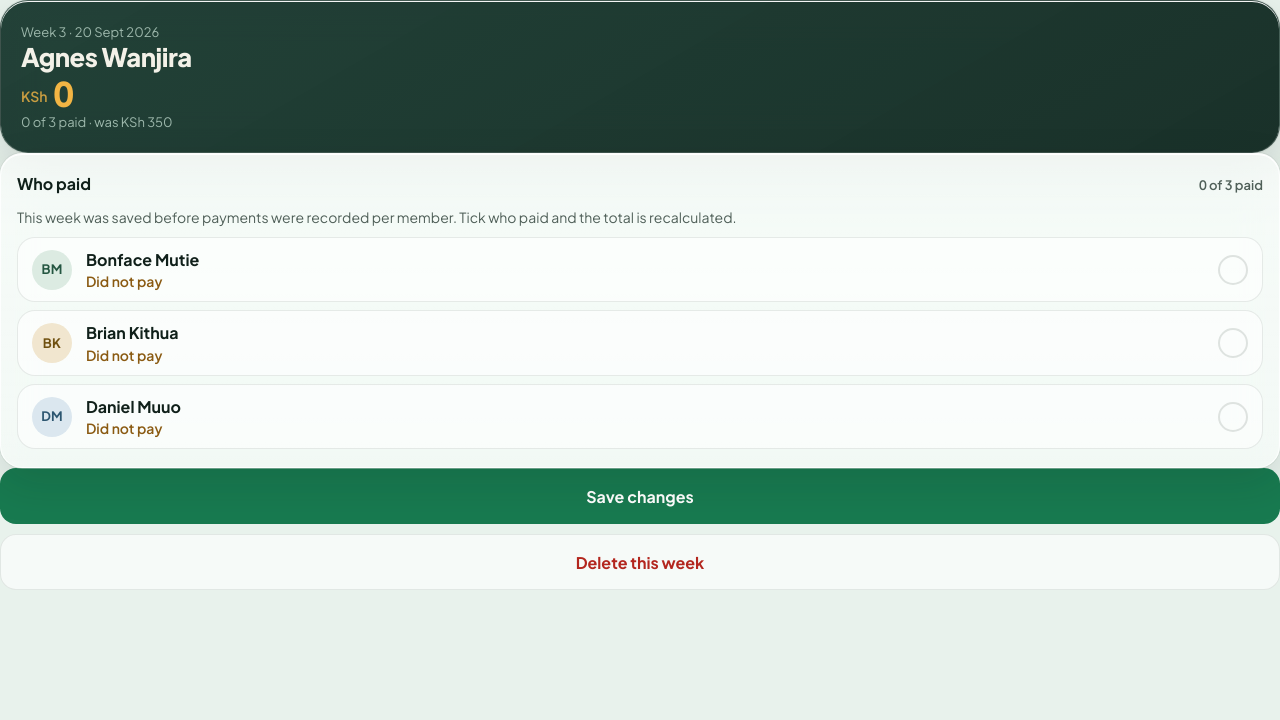
Scenario: WeekEditor: correcting a past week › lets a week saved before payments were tracked be recorded, and explains the recalculation
The width and height of the screenshot is (1280, 720).
Expected: the text with class "note" shows "saved before payments were recorded per member", [17,208,736,226]
Expected: the button "Save changes" is enabled, [0,468,1279,524]
Click the button with class "toggle" showing "BM Bonface Mutie Did not pay".
click(52, 270)  # box [17,237,1263,302]
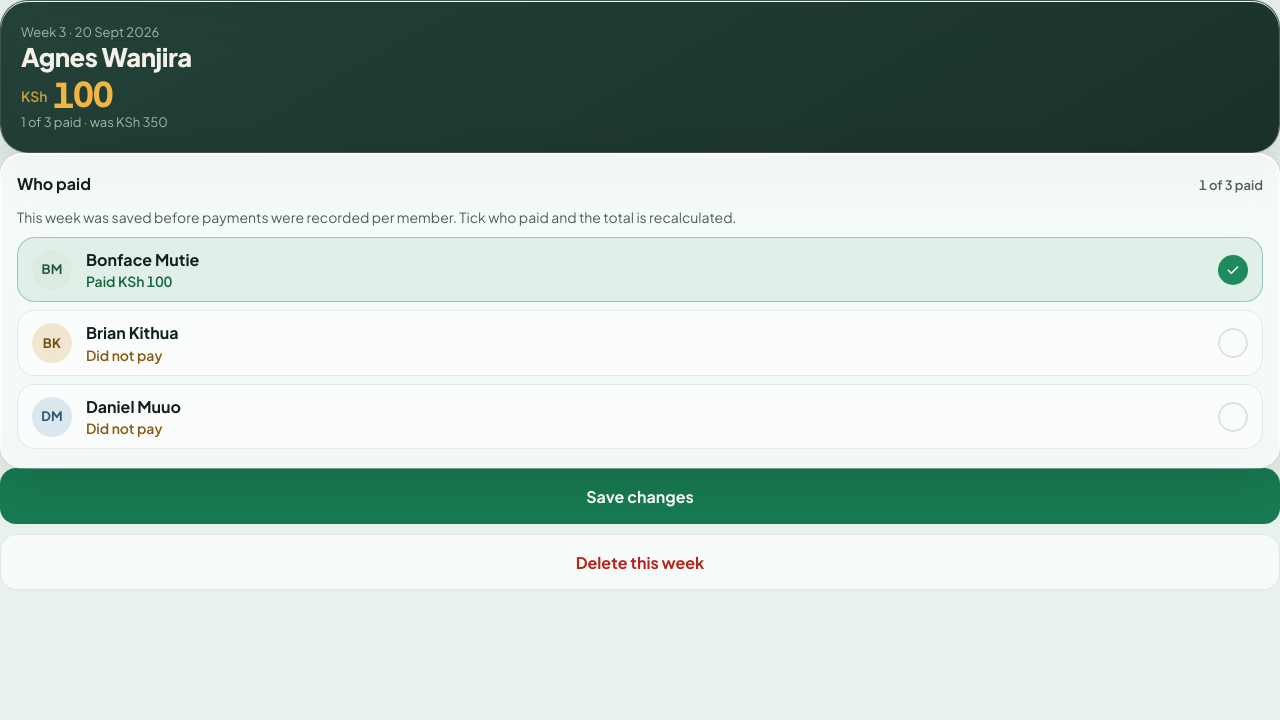
Click the 2nd button with class "toggle".
click(52, 343)  # box [17,310,1263,376]
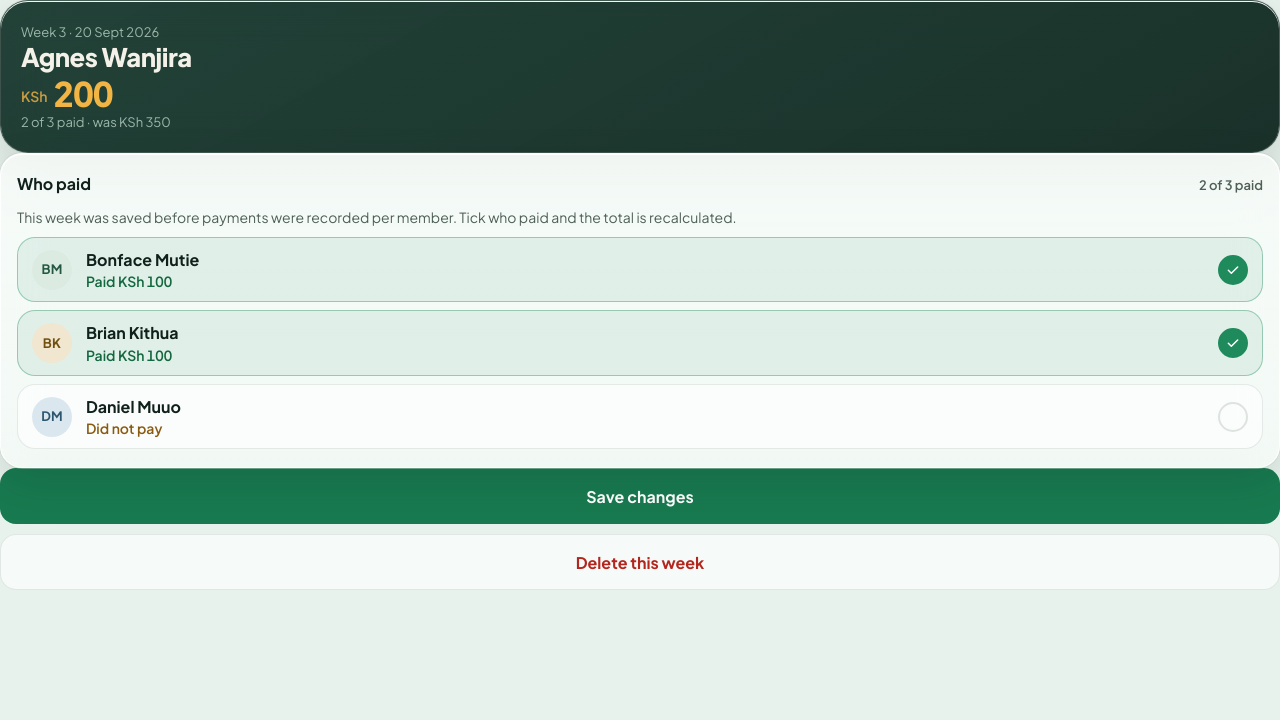
Click the button "Save changes".
click(640, 496)  # box [0,468,1279,524]
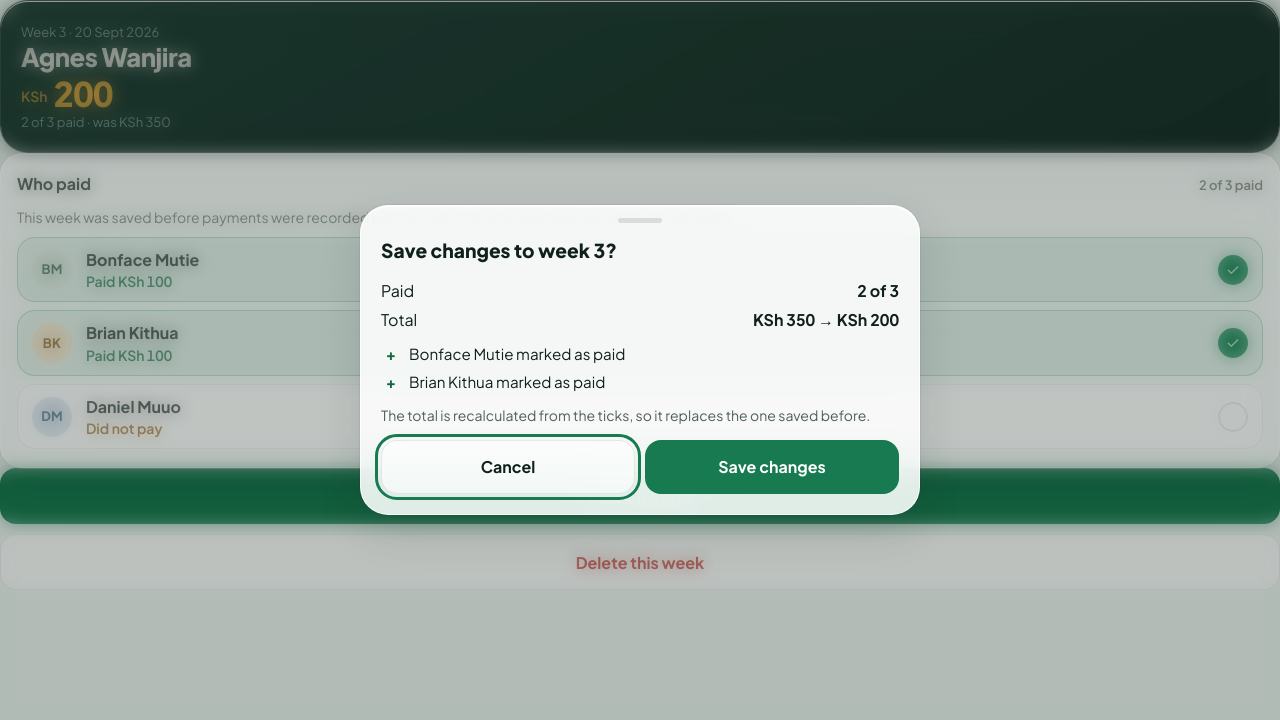
Now the dialog shows "KSh 350 → KSh 200", box [753,309,899,330]
Now the dialog shows "recalculated", box [381,406,870,424]
